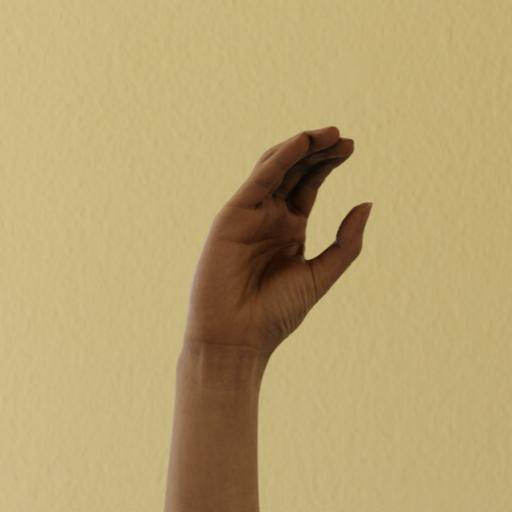C: (184, 118, 376, 367)
